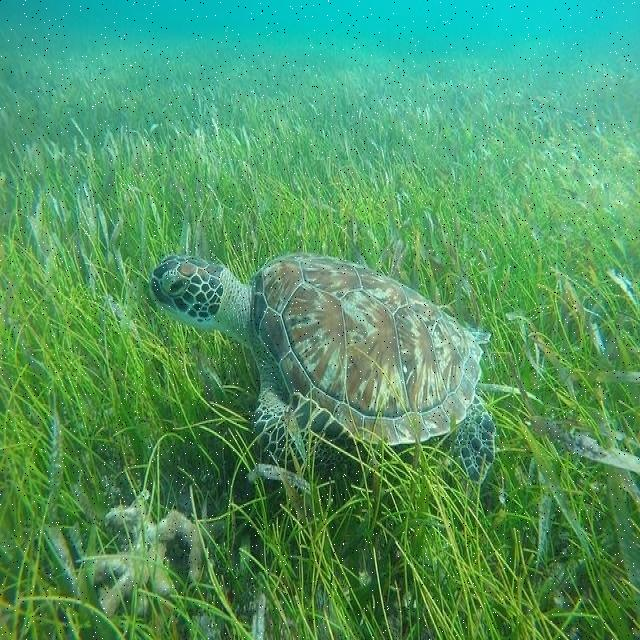fish: (153, 254, 497, 478)
